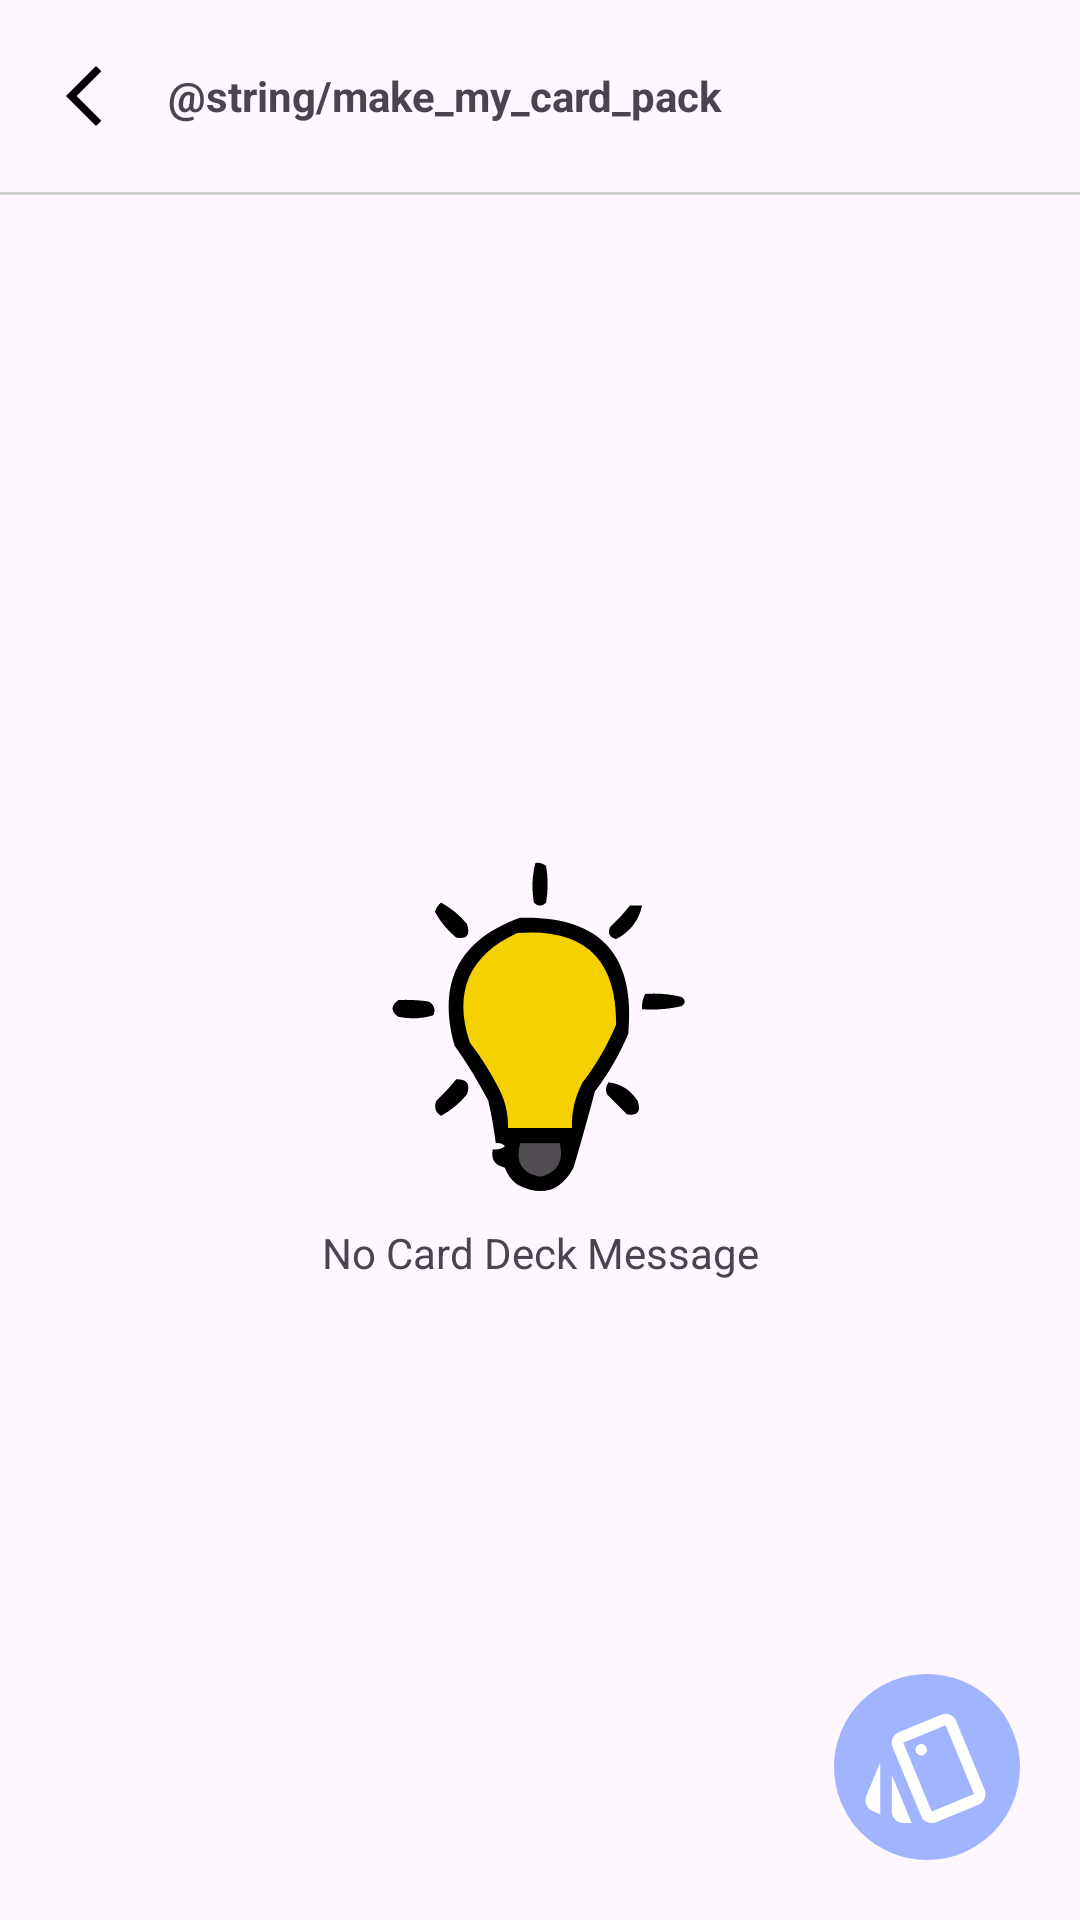

Point at icon controls on the screen. Image size 1080px×1920px, points as (x,y).
bulb day night: (538,1026)
cards: (927,1767)
